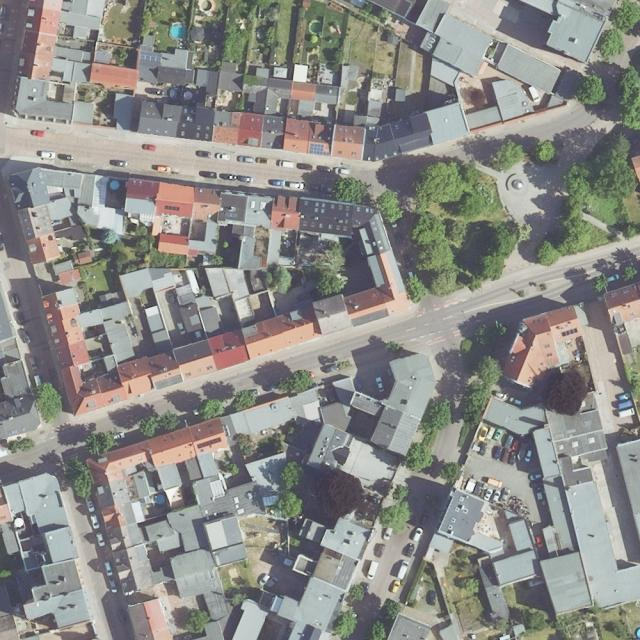PV: (196, 437, 221, 449), (310, 142, 330, 156), (140, 55, 160, 63), (225, 212, 237, 217)
ST: (562, 328, 578, 337), (164, 205, 180, 211)
